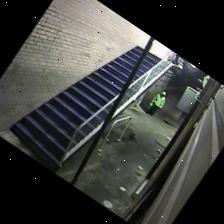person: (147, 91, 165, 115)
